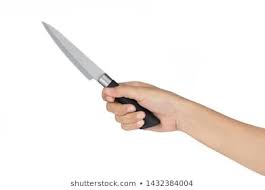knife: (41, 19, 165, 131)
